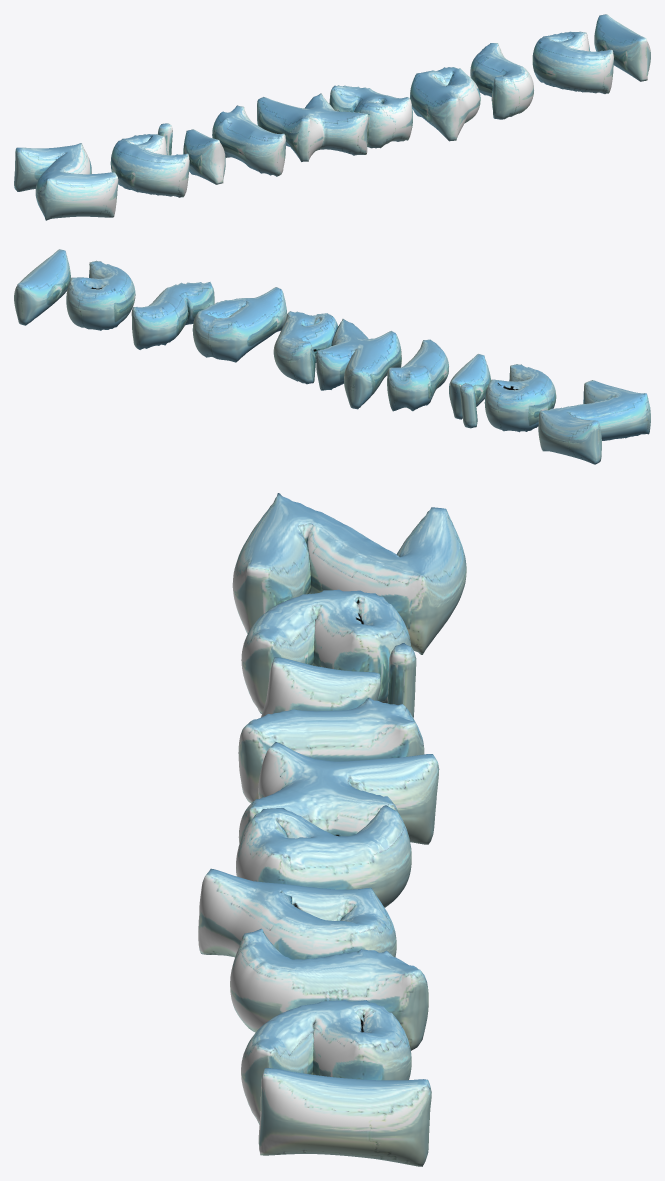
Rendered from title6.glb.
3 renders of one model, top to bottom at view 1: azimuth 30°, elevation 25°; view 2: azimuth 150°, elevation 25°; view 3: azimuth 270°, elevation 25°, orthographic. The views are drawn at different scales.
Parts seen in each view (by area): view 1: Text.001; view 2: Text.001; view 3: Text.001.
Part boxes in pixels (left/top/right/bottom): Text.001: left=14, top=14, right=650, bottom=220; Text.001: left=14, top=249, right=650, bottom=464; Text.001: left=198, top=493, right=466, bottom=1166.
Size of the model in its own units: 61.32 by 4.87 by 11.7.
1 material, 1 textured.
